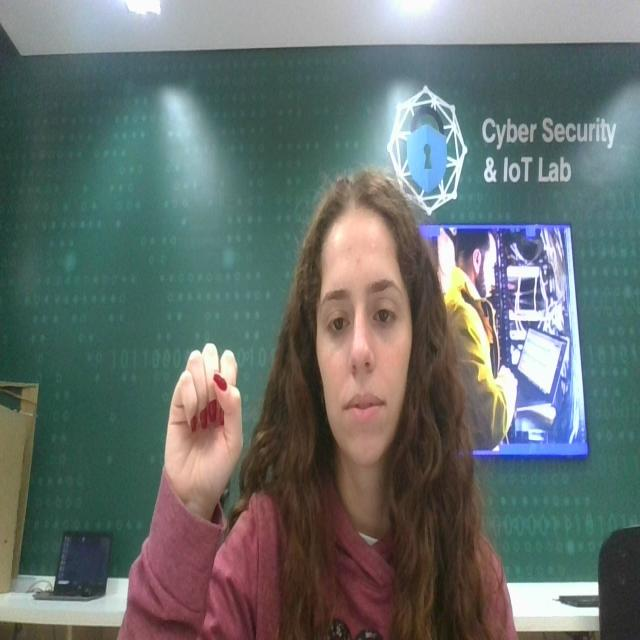S: (162, 327, 252, 529)
